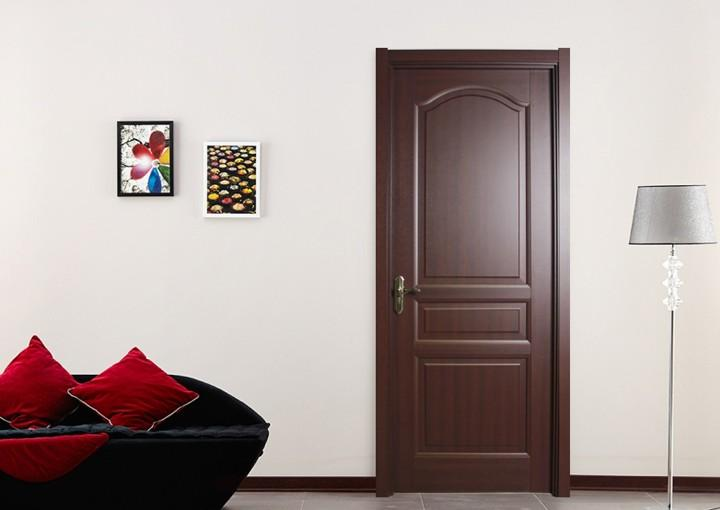door: (390, 70, 554, 490)
